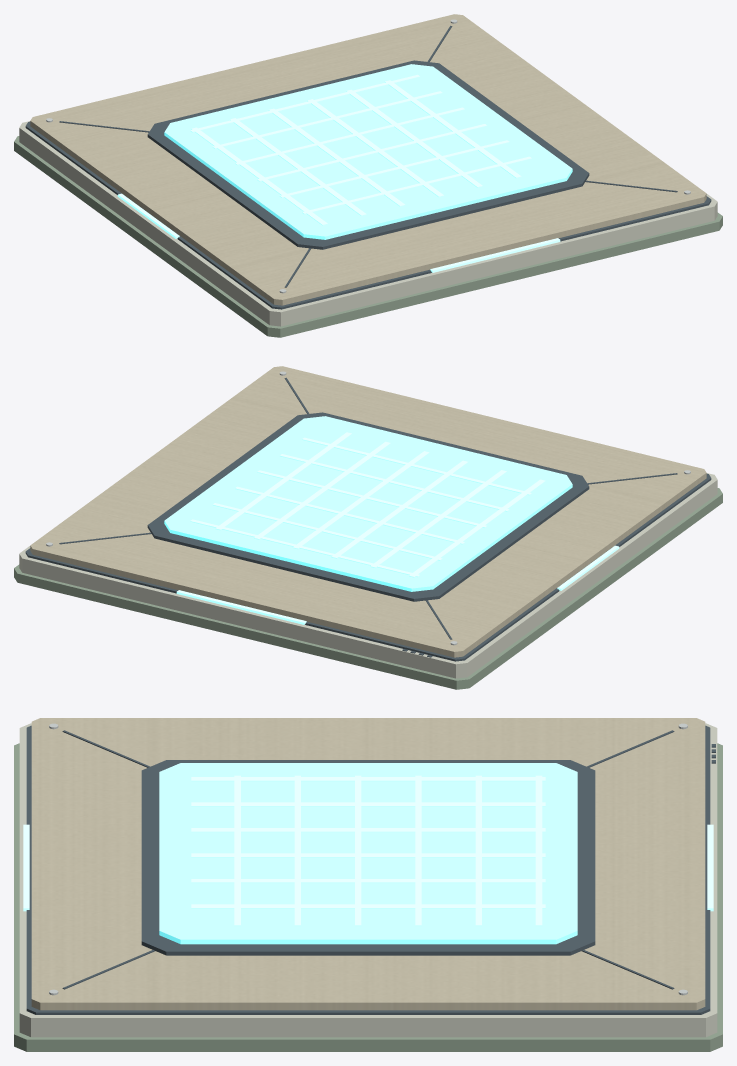
File: m01-metal-service-led-panel.glb
The picture shows the model from 3 angles, top to bottom: view 1: azimuth 30°, elevation 25°; view 2: azimuth 150°, elevation 25°; view 3: azimuth 270°, elevation 25°; orthographic projection. The views are drawn at different scales.
Visible parts, largest first — view 1: service-led-panel/003, service-led-panel/021, service-led-panel/001, service-led-panel/000, service-led-panel/020, service-led-panel/002, service-led-panel/027, service-led-panel/022, service-led-panel/024, service-led-panel/023, service-led-panel/025, service-led-panel/026 (+7 smaller); view 2: service-led-panel/003, service-led-panel/021, service-led-panel/001, service-led-panel/000, service-led-panel/020, service-led-panel/002, service-led-panel/025, service-led-panel/023, service-led-panel/024, service-led-panel/022, service-led-panel/027, service-led-panel/026 (+7 smaller); view 3: service-led-panel/003, service-led-panel/021, service-led-panel/001, service-led-panel/000, service-led-panel/020, service-led-panel/002, service-led-panel/023, service-led-panel/022, service-led-panel/024, service-led-panel/026, service-led-panel/025, service-led-panel/027 (+8 smaller).
Boxes of the visible parts, x1,y1,x2,y2 form: service-led-panel/003: (30,14,706,305); service-led-panel/021: (164,64,572,239); service-led-panel/001: (19,121,717,326); service-led-panel/000: (14,136,722,337); service-led-panel/020: (147,60,589,249); service-led-panel/002: (25,121,711,309); service-led-panel/027: (385,80,521,178); service-led-panel/022: (191,127,327,225); service-led-panel/024: (268,108,405,206); service-led-panel/023: (230,118,366,215); service-led-panel/025: (307,99,444,197); service-led-panel/026: (346,89,482,187); service-led-panel/003: (30,366,706,657); service-led-panel/021: (164,416,572,591); service-led-panel/001: (19,473,717,678); service-led-panel/000: (14,488,722,689); service-led-panel/020: (147,412,589,601); service-led-panel/002: (25,473,711,661); service-led-panel/025: (292,451,429,549); service-led-panel/023: (370,470,506,567); service-led-panel/024: (331,460,468,558); service-led-panel/022: (409,479,545,577); service-led-panel/027: (215,432,351,530); service-led-panel/026: (254,441,390,539); service-led-panel/003: (31,718,705,1010); service-led-panel/021: (159,763,577,944); service-led-panel/001: (19,723,717,1037); service-led-panel/000: (14,743,722,1051); service-led-panel/020: (141,760,595,955); service-led-panel/002: (26,725,710,1014); service-led-panel/023: (191,802,545,806); service-led-panel/022: (191,777,545,781); service-led-panel/024: (191,828,545,832); service-led-panel/026: (191,879,545,883); service-led-panel/025: (191,853,545,857); service-led-panel/027: (191,904,545,908).
Bounding box in the file's own units: 1 × 0.0805 × 1.
7 materials, 1 textured.
